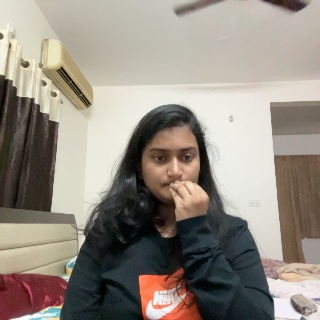Food: (168, 180, 216, 245)
